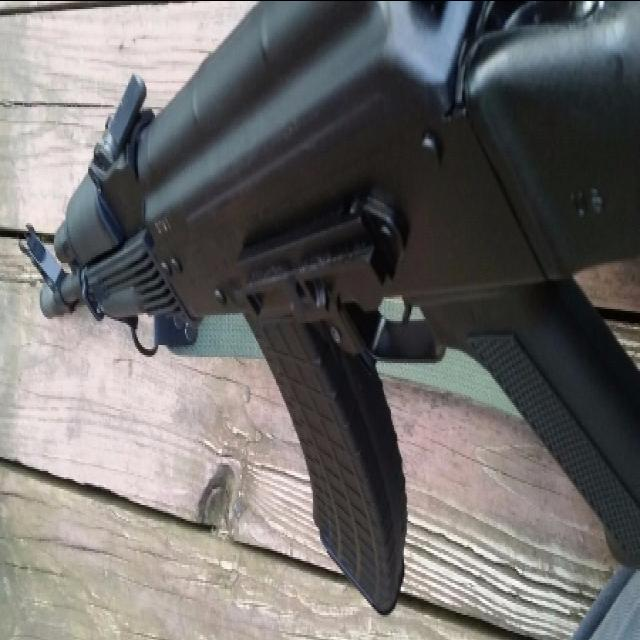rifle: (4, 3, 628, 601)
